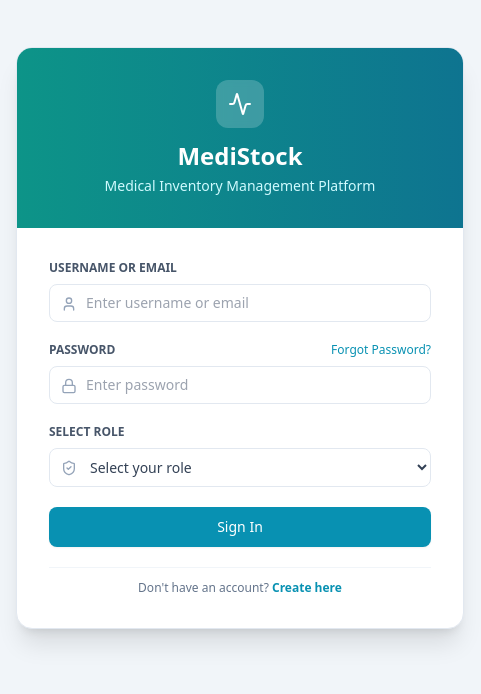
Test: MediStock Frontend Components › Login Page and Role Dropdown › validates that username, password, and role are required
The width and height of the screenshot is (481, 694).
Empty username
Click the button "Sign In" at {"x": 240, "y": 527}, box x1=49 y1=507 x2=431 y2=547
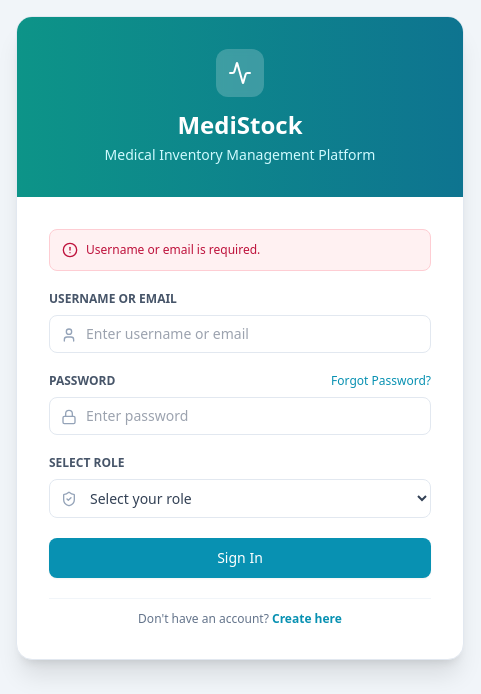
Result: the text "Username or email is required." is shown at x1=86 y1=242 x2=260 y2=258
Filled username, empty password
Type "admin" into the field with placeholder "Enter username or email" at {"x": 240, "y": 334}, box x1=49 y1=315 x2=431 y2=353
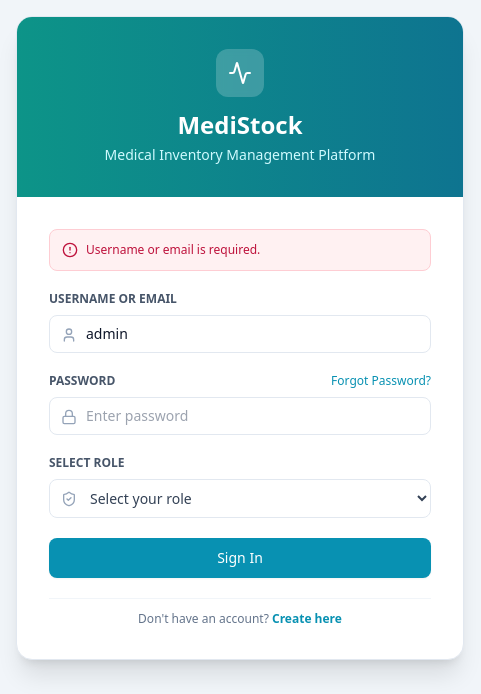
Click the button "Sign In" at {"x": 240, "y": 558}, box x1=49 y1=538 x2=431 y2=578
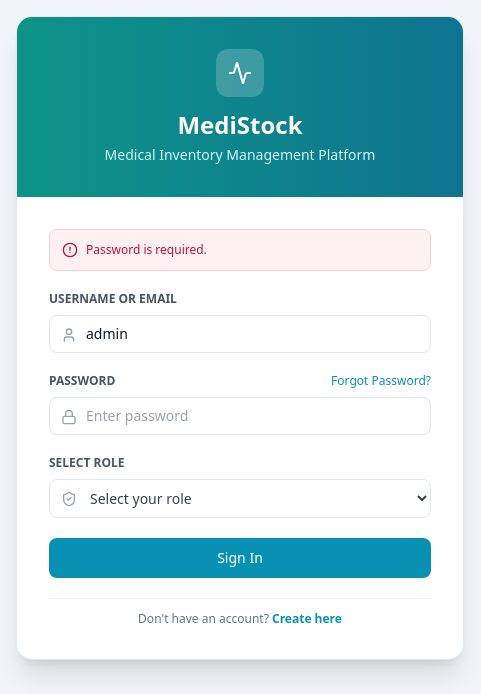
Result: the text "Password is required." is shown at x1=86 y1=242 x2=207 y2=258
Filled password, empty role
Type "password123" into the password field with placeholder "Enter password" at {"x": 240, "y": 416}, box x1=49 y1=397 x2=431 y2=435
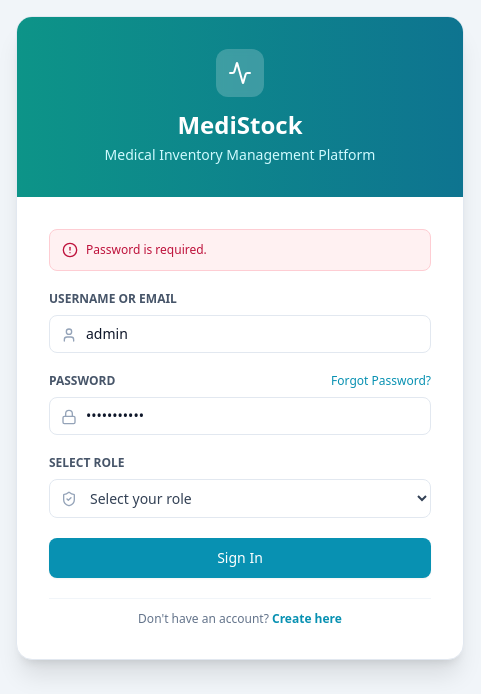
Click the button "Sign In" at {"x": 240, "y": 558}, box x1=49 y1=538 x2=431 y2=578
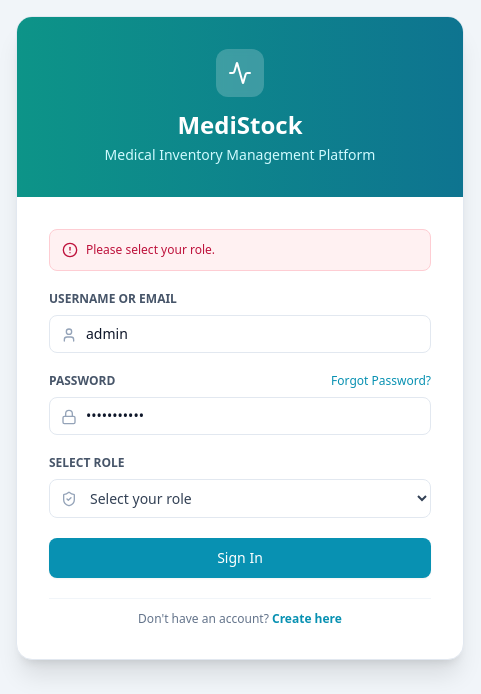
Result: the text "Please select your role." is shown at x1=86 y1=242 x2=215 y2=258
